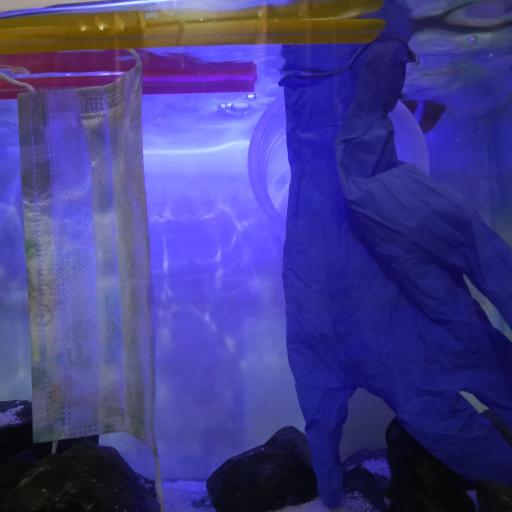glove: (276, 37, 512, 507)
mask: (5, 48, 163, 512)
plastic_cup: (248, 88, 433, 238)
plastic_straw: (0, 14, 385, 46), (0, 75, 258, 97)
